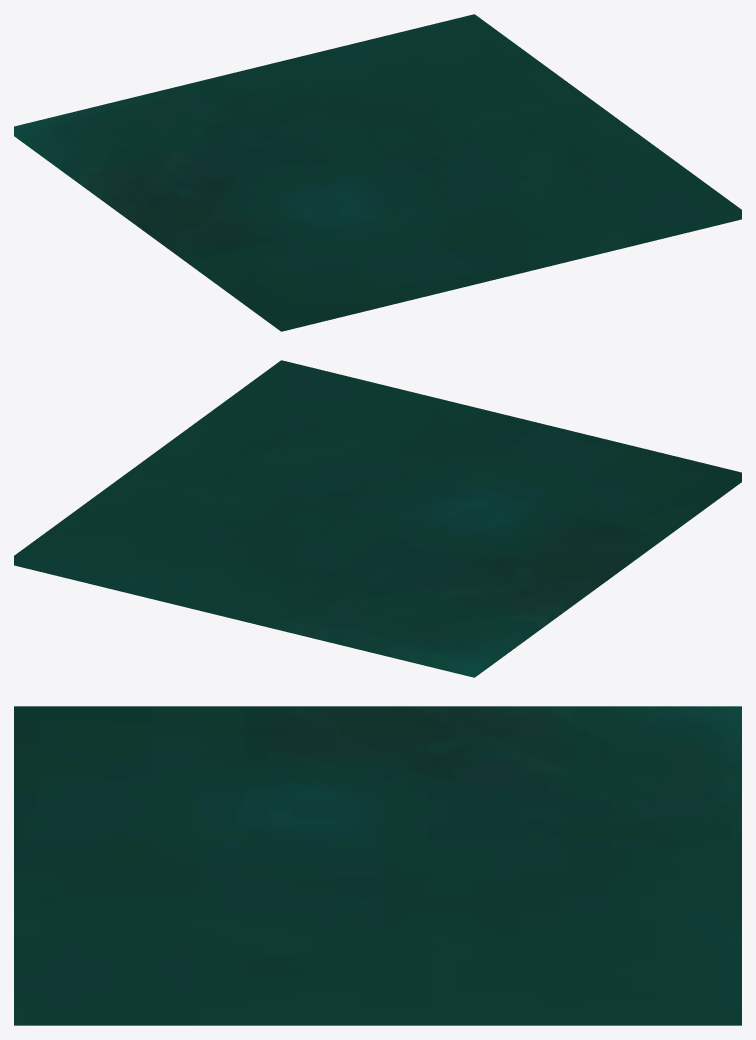
Rendered from z16-10486-25323-h0-yup-uvflip-v3-world.glb.
3 views of the same model, one above another, from view 1: azimuth 30°, elevation 25°; view 2: azimuth 150°, elevation 25°; view 3: azimuth 270°, elevation 25° (orthographic). The views are drawn at different scales.
Size of the model in its own units: 483 by 9.6 by 485.
1 material, 1 textured.
